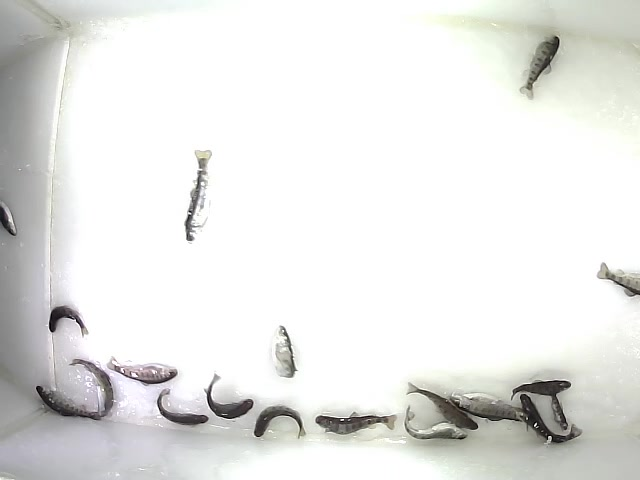fish: (405, 381, 479, 431), (520, 393, 584, 443), (449, 392, 533, 427), (518, 34, 561, 102), (184, 147, 213, 245), (68, 358, 114, 418), (203, 372, 254, 421), (35, 385, 102, 422), (404, 404, 469, 441), (106, 355, 179, 387), (314, 410, 397, 436), (157, 387, 209, 428), (253, 405, 308, 439), (535, 378, 569, 431), (269, 324, 299, 379), (49, 304, 89, 339), (509, 379, 572, 401)
